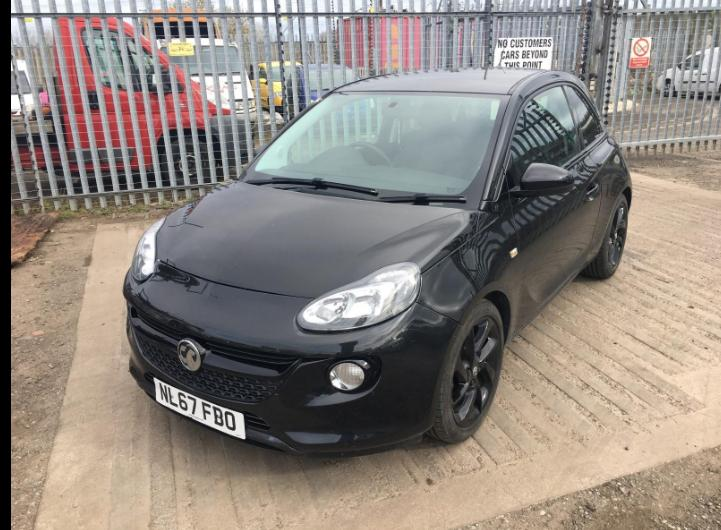Back-wheel: (582, 194, 628, 279)
Back-window: (564, 86, 602, 148)
Fender: (415, 206, 530, 337)
Front-bumper: (123, 260, 463, 458)
Front-door: (503, 83, 602, 318), (478, 176, 509, 215)
Front-wheel: (424, 299, 504, 443)
Front-window: (507, 86, 584, 185)
Grille: (131, 304, 300, 403)
Headlight: (297, 262, 420, 330), (131, 217, 167, 280)
Hood: (156, 181, 480, 299)
License-plate: (154, 378, 246, 440)
Mirror: (508, 163, 575, 197)
Quarter-panel: (587, 135, 633, 260)
Rocker-panel: (504, 246, 600, 345)
Roof: (334, 67, 577, 101)
Windshield: (240, 91, 512, 210), (258, 184, 379, 201)
